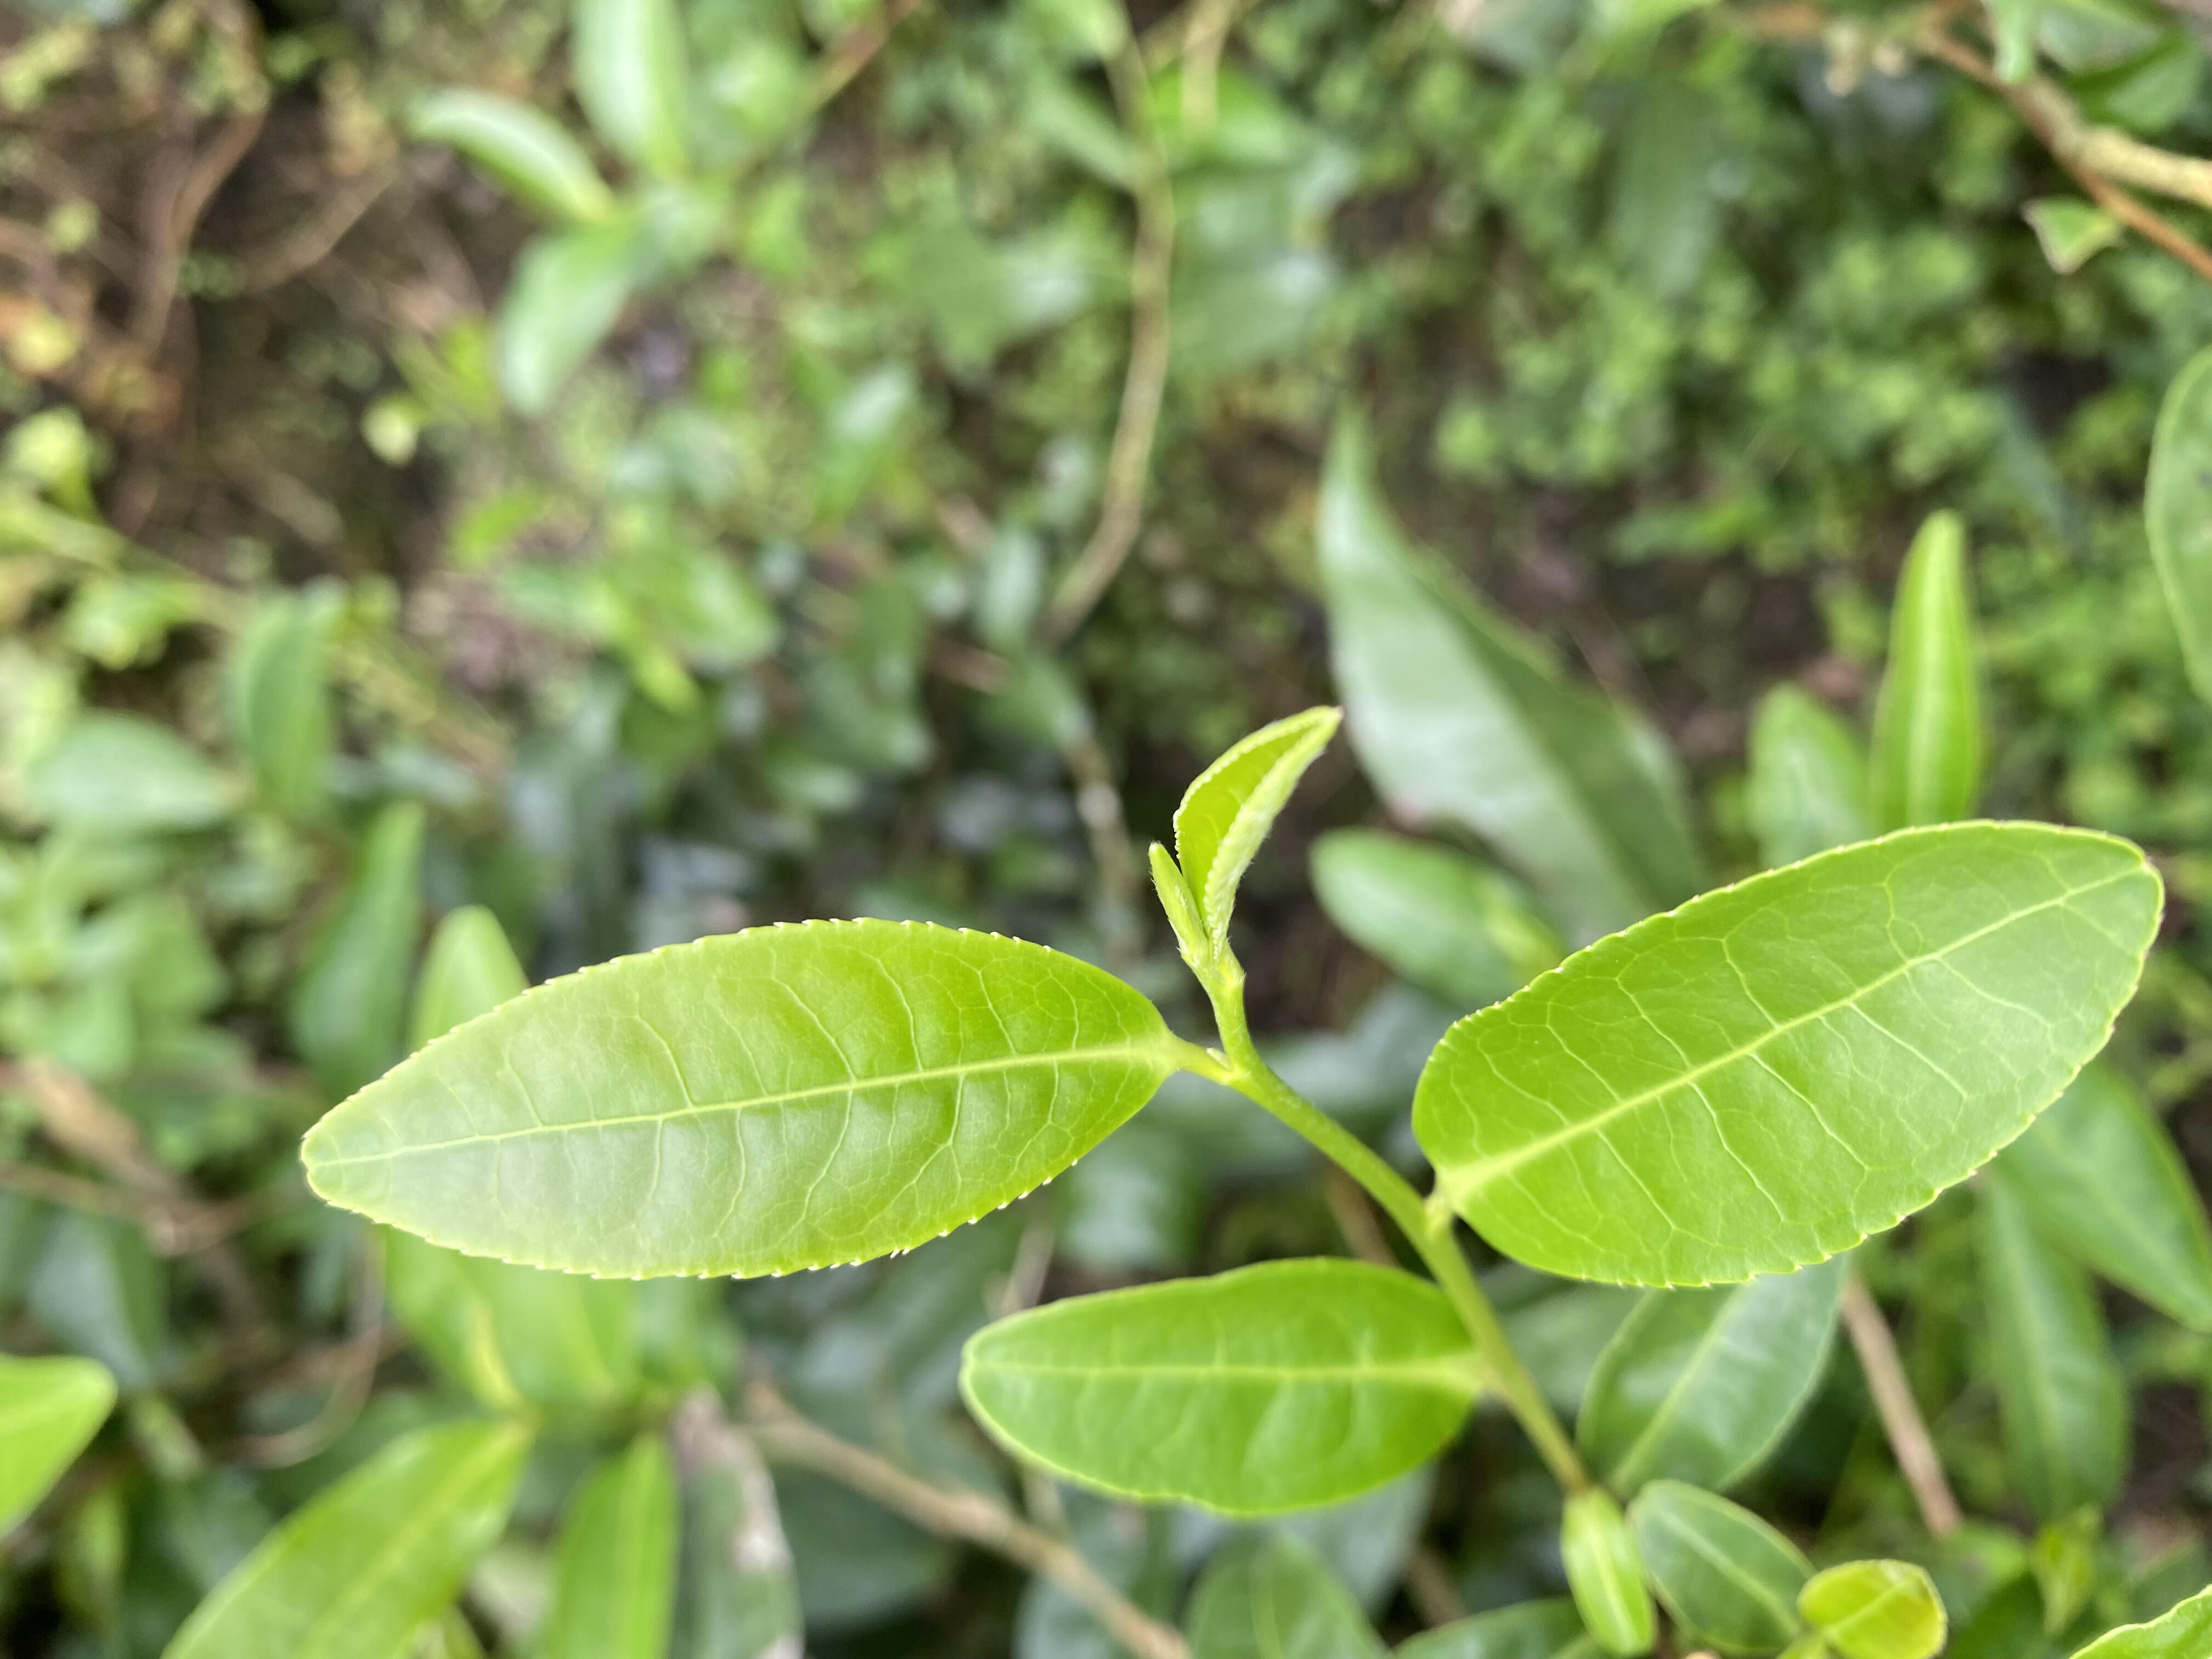healthy: (1407, 816, 2167, 1291), (296, 915, 1176, 1286), (956, 1251, 1482, 1520)
